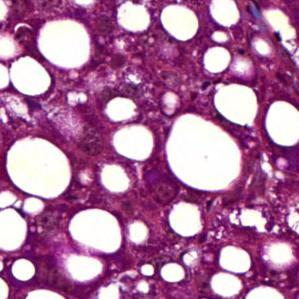steatosis: (5, 134, 71, 199), (36, 18, 98, 71), (67, 208, 127, 254), (210, 83, 259, 128), (10, 58, 54, 100), (263, 93, 296, 147), (165, 196, 206, 237), (112, 124, 156, 162), (157, 3, 196, 40), (218, 242, 252, 275), (207, 268, 244, 297), (202, 48, 231, 76)
